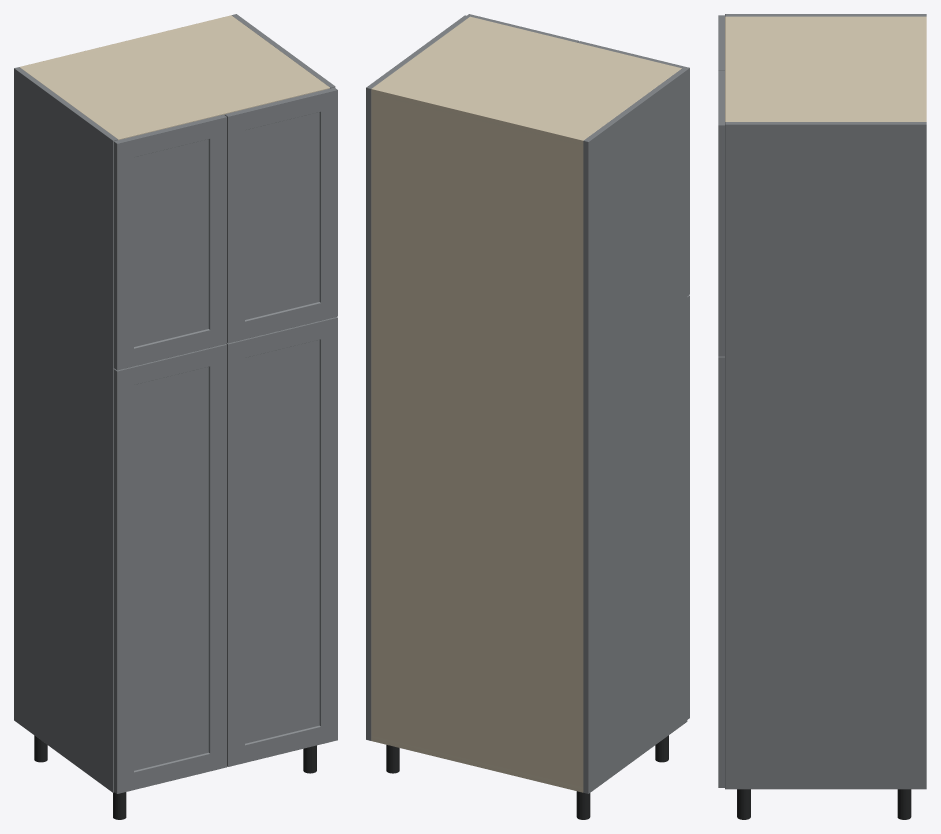
The model's file is oppein-ply-gss-pc3084.glb.
3 views of the same model, side by side, from view 1: azimuth 30°, elevation 25°; view 2: azimuth 150°, elevation 25°; view 3: azimuth 270°, elevation 25° (orthographic).
Parts seen in each view (by area): view 1: Cabinet side, Door, Door.001, Door.002, Door.003, Cabinet top; view 2: Cabinet back, Cabinet side, Cabinet top, Cabinet side.001, Door, Cabinet bottom, Door.002; view 3: Cabinet side.001, Cabinet top, Door.001, Door.003, Cabinet side, Cabinet back, Adjustable foot.002, Adjustable foot.003.
Part boxes in pixels (left/top/right/bottom): Cabinet side: left=14, top=67, right=117, bottom=792; Door: left=113, top=344, right=226, bottom=793; Door.001: left=226, top=317, right=337, bottom=766; Door.002: left=113, top=114, right=226, bottom=370; Door.003: left=224, top=87, right=337, bottom=343; Cabinet top: left=21, top=16, right=329, bottom=140; Cabinet back: left=371, top=87, right=584, bottom=792; Cabinet side: left=583, top=68, right=687, bottom=793; Cabinet top: left=371, top=16, right=681, bottom=145; Cabinet side.001: left=366, top=15, right=469, bottom=740; Door: left=687, top=295, right=689, bottom=719; Cabinet bottom: left=371, top=736, right=583, bottom=792; Door.002: left=578, top=41, right=689, bottom=295; Cabinet side.001: left=725, top=122, right=926, bottom=789; Cabinet top: left=725, top=16, right=922, bottom=121; Door.001: left=718, top=356, right=724, bottom=787; Door.003: left=718, top=70, right=724, bottom=356; Cabinet side: left=725, top=14, right=926, bottom=16; Cabinet back: left=922, top=16, right=926, bottom=121; Adjustable foot.002: left=897, top=789, right=911, bottom=819; Adjustable foot.003: left=737, top=789, right=750, bottom=819.
Size of the model in its own units: 0.762 by 2.25 by 0.6064.
